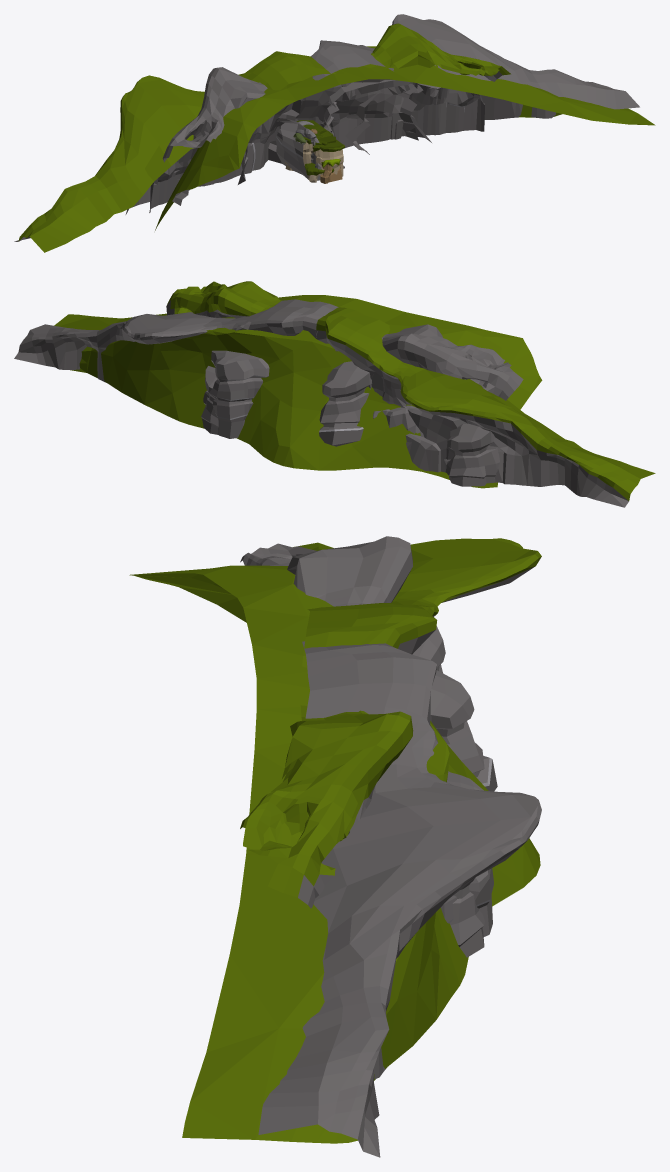
Rendered from swamp_lib.glb.
3 views of the same model, one above another, from view 1: azimuth 30°, elevation 25°; view 2: azimuth 150°, elevation 25°; view 3: azimuth 270°, elevation 25° (orthographic). The views are drawn at different scales.
Parts seen in each view (by area): view 1: EA_Swamp_Clif_01a, EA_Swamp_Clif_02a, EA_Swamp_Clif_03a, EA_Swamp_Wall_01a, EA_Swamp_Wall_03a; view 2: EA_Swamp_Clif_01a, EA_Swamp_Clif_03a, EA_Swamp_Clif_02a; view 3: EA_Swamp_Clif_02a, EA_Swamp_Clif_03a, EA_Swamp_Clif_01a.
Part boxes in pixels (x1,y1,x2,y2): EA_Swamp_Clif_01a: (14, 23, 510, 252); EA_Swamp_Clif_02a: (149, 14, 639, 212); EA_Swamp_Clif_03a: (155, 46, 655, 230); EA_Swamp_Wall_01a: (285, 120, 344, 180); EA_Swamp_Wall_03a: (305, 126, 342, 183); EA_Swamp_Clif_01a: (166, 281, 655, 507); EA_Swamp_Clif_03a: (54, 295, 542, 488); EA_Swamp_Clif_02a: (14, 299, 523, 438); EA_Swamp_Clif_02a: (240, 536, 541, 1157); EA_Swamp_Clif_03a: (129, 565, 540, 1143); EA_Swamp_Clif_01a: (240, 538, 541, 957).
Bounding box in the file's own units: 237 × 52.77 × 71.37.
50 materials, 50 textured.
